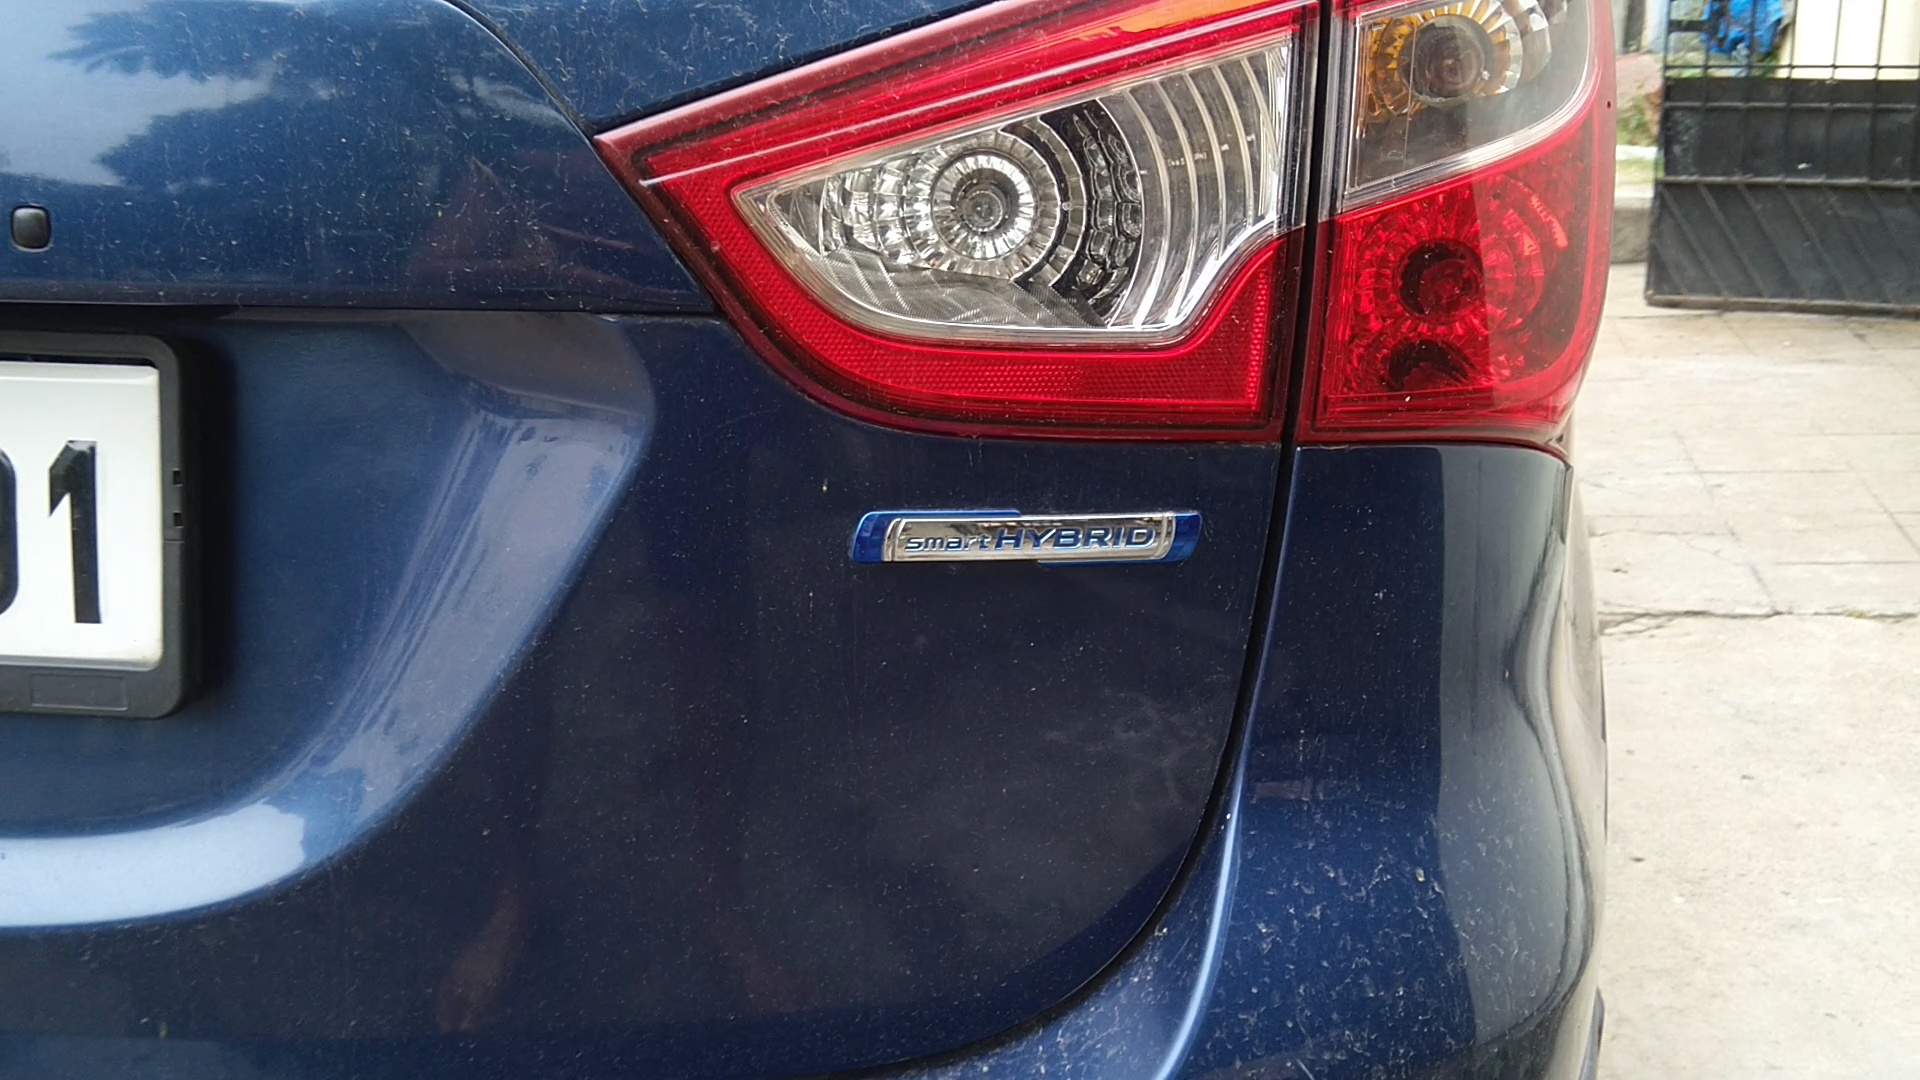shvs: (814, 467, 1251, 622)
